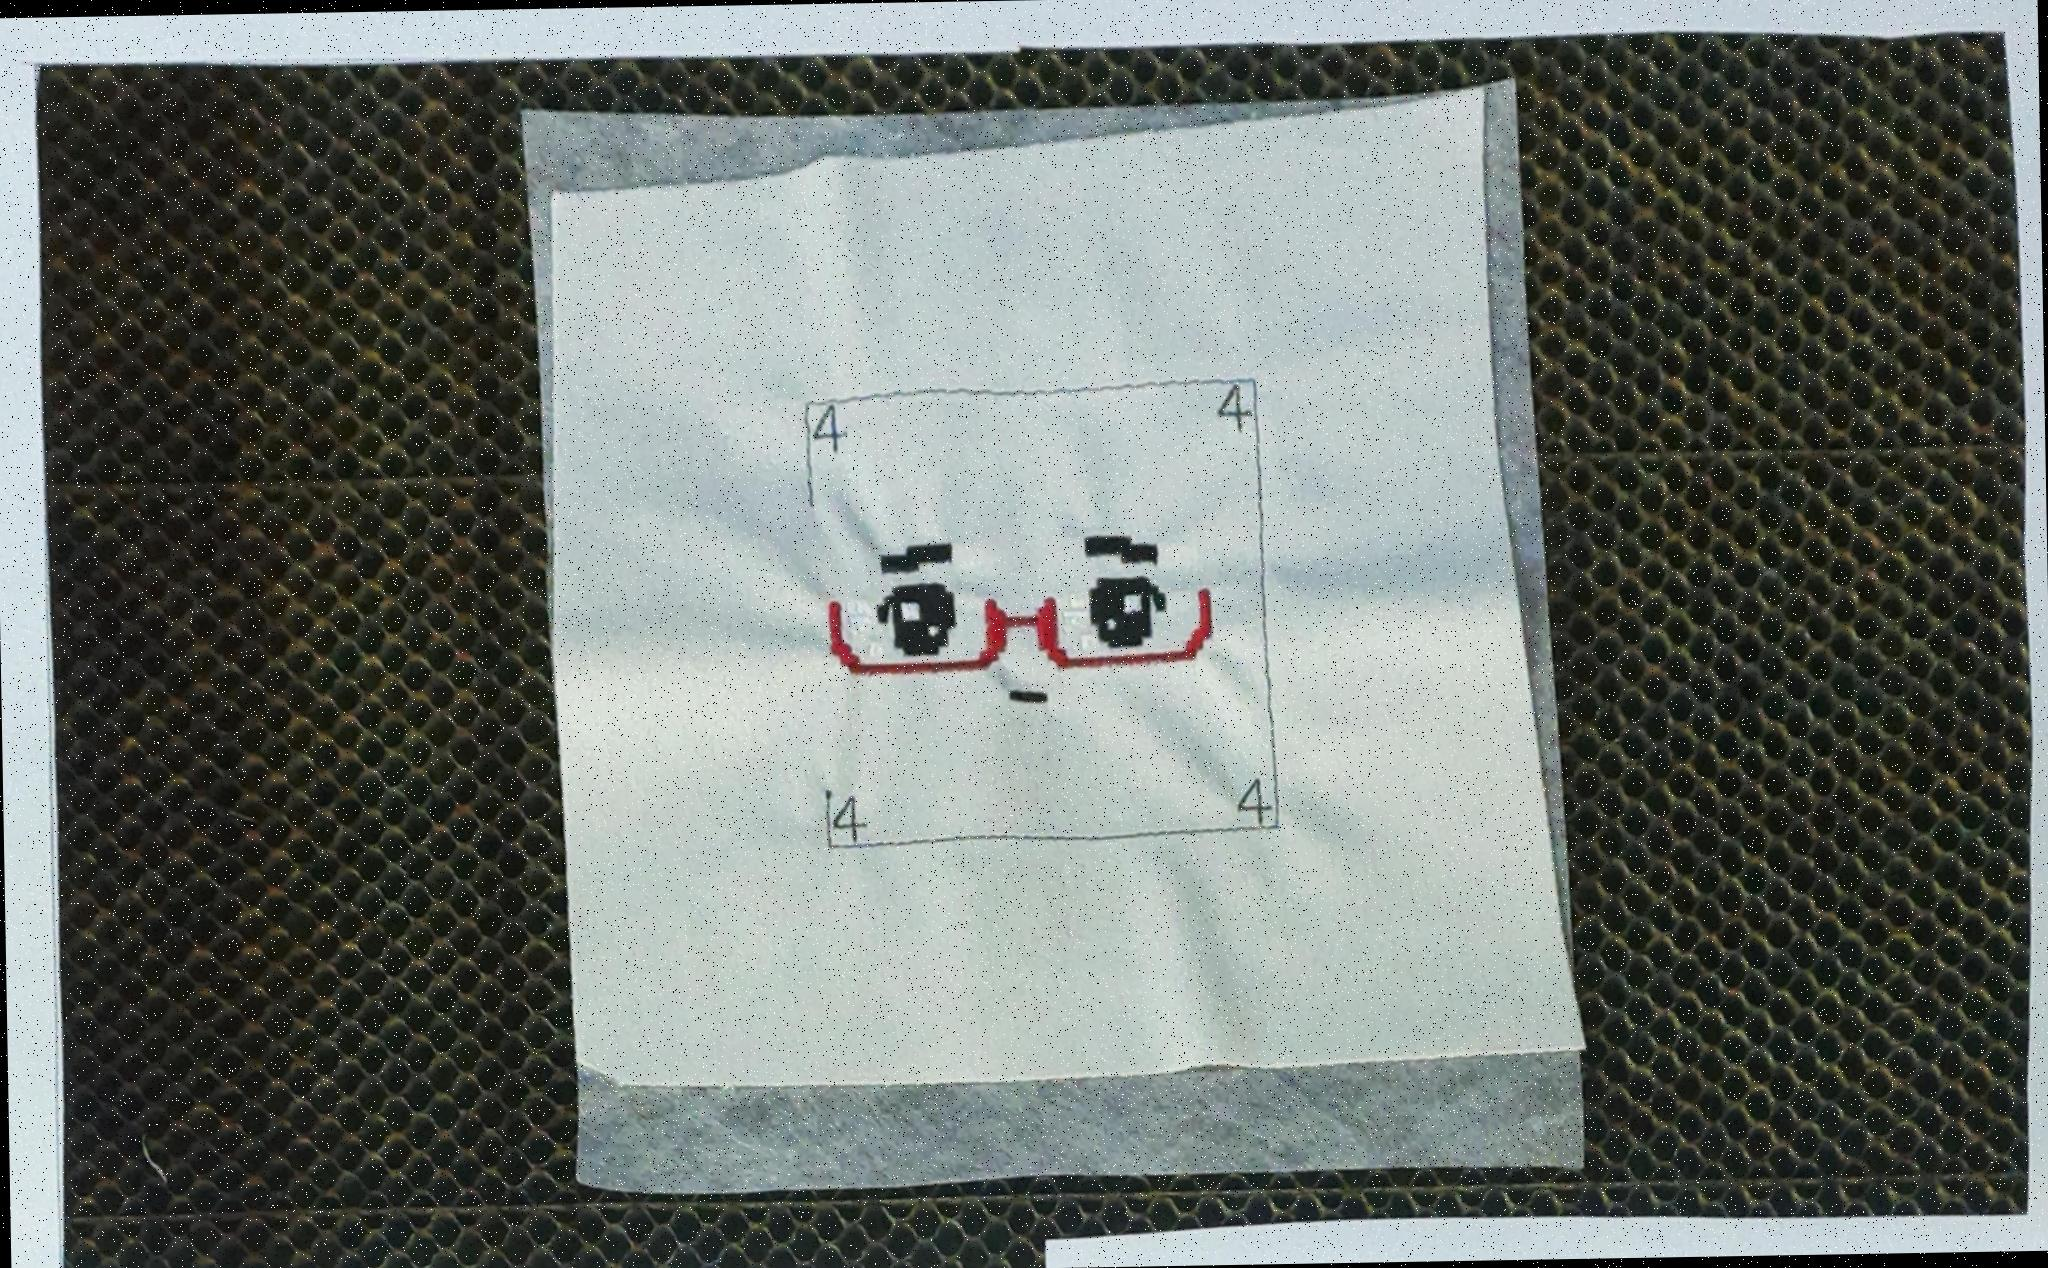objects: (480, 66, 1654, 1215)
